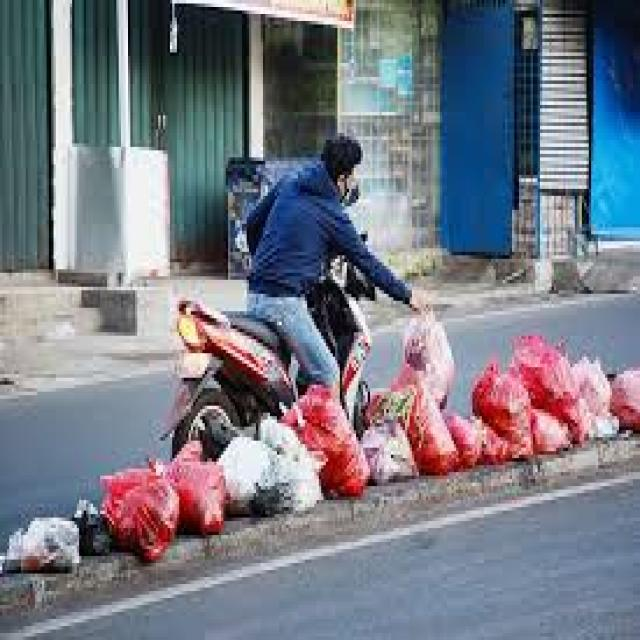trash: (8, 373, 636, 573)
